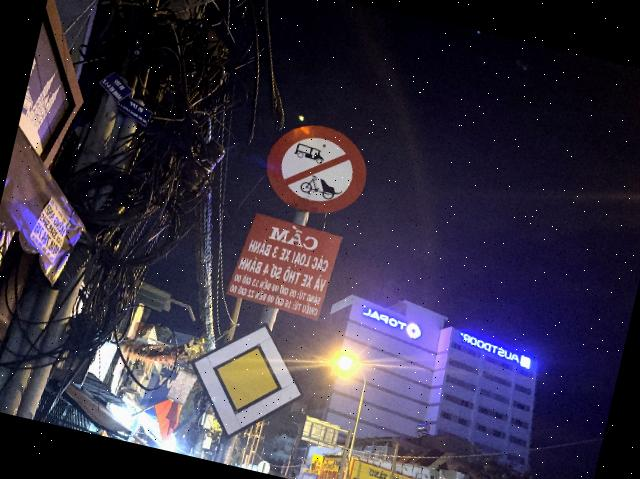bat-dau-duong-uu-tien: (174, 307, 318, 455)
cam-xe-3-banh-xe-tho-so-4-banh: (258, 114, 378, 224)
